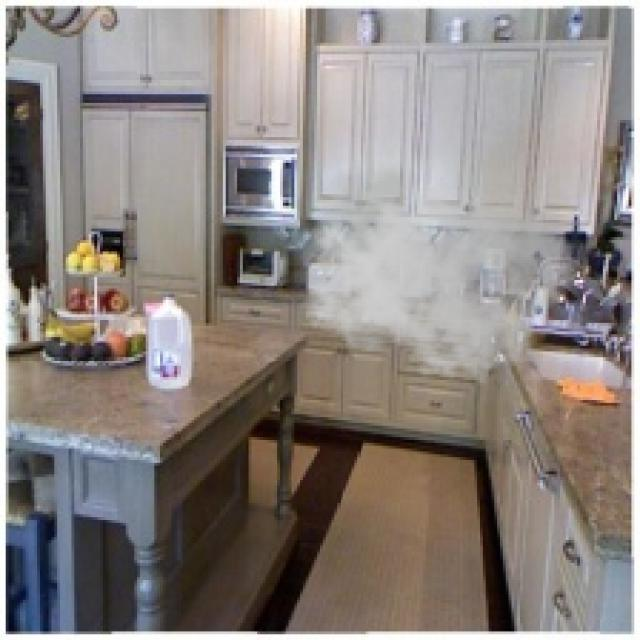smoke: (294, 160, 574, 386)
